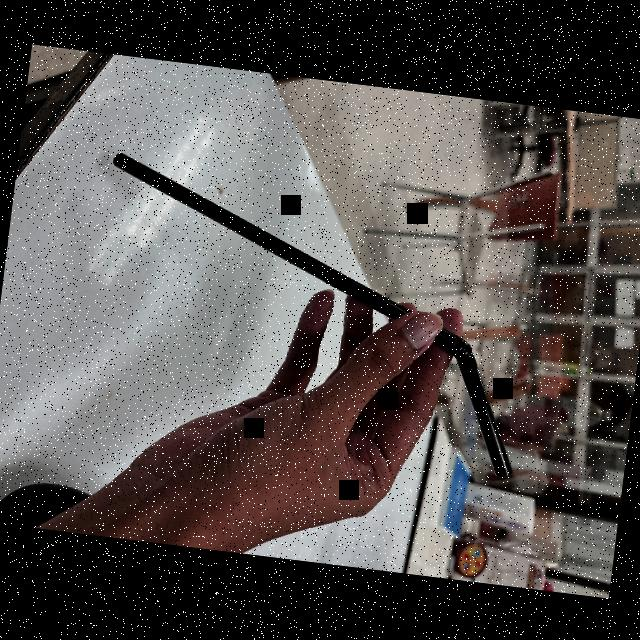straw: (70, 142, 546, 487)
